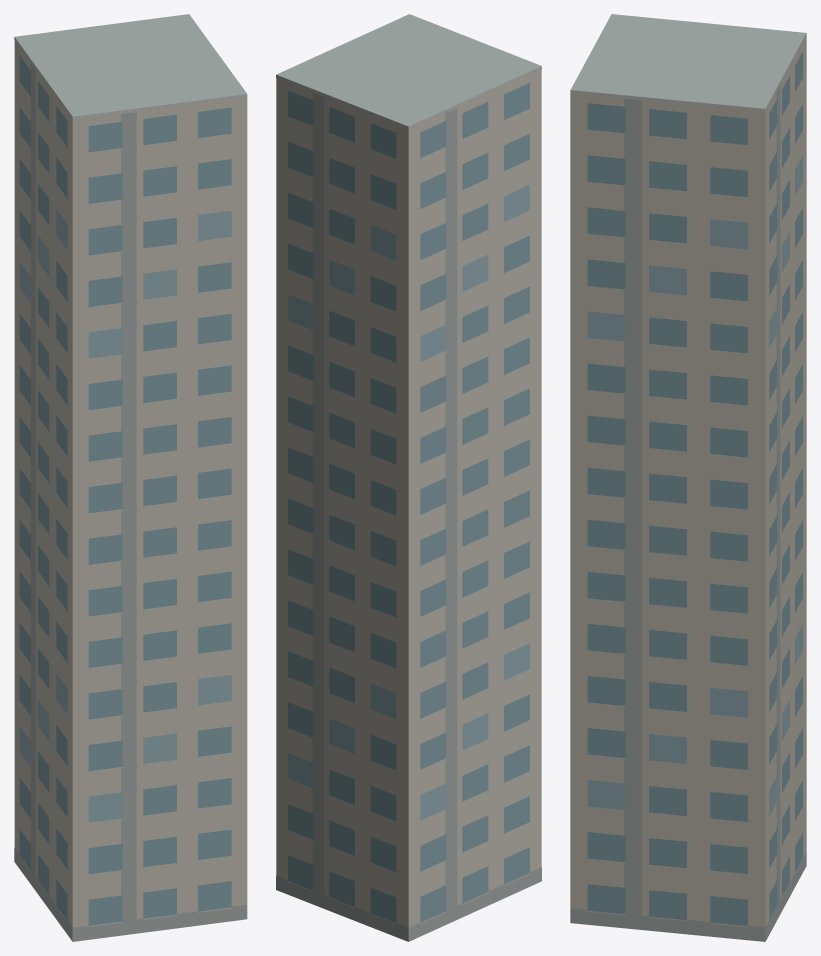
File: residential-9e647348-6dba-41e8-b64c-9ec9440667b3.glb
3 renders of one model, left to right at view 1: azimuth 30°, elevation 25°; view 2: azimuth 150°, elevation 25°; view 3: azimuth 270°, elevation 25°, orthographic. The views are drawn at different scales.
Visible parts, largest first — view 1: residential-9e647348-6dba-41e8-b64c-9ec9440667b3.tmp; view 2: residential-9e647348-6dba-41e8-b64c-9ec9440667b3.tmp; view 3: residential-9e647348-6dba-41e8-b64c-9ec9440667b3.tmp.
Boxes of the visible parts, x1,y1,x2,y2 form: residential-9e647348-6dba-41e8-b64c-9ec9440667b3.tmp: [14, 14, 247, 941]; residential-9e647348-6dba-41e8-b64c-9ec9440667b3.tmp: [276, 14, 541, 941]; residential-9e647348-6dba-41e8-b64c-9ec9440667b3.tmp: [570, 14, 806, 941].
Size of the model in its own units: 13.69 by 56 by 14.39.
